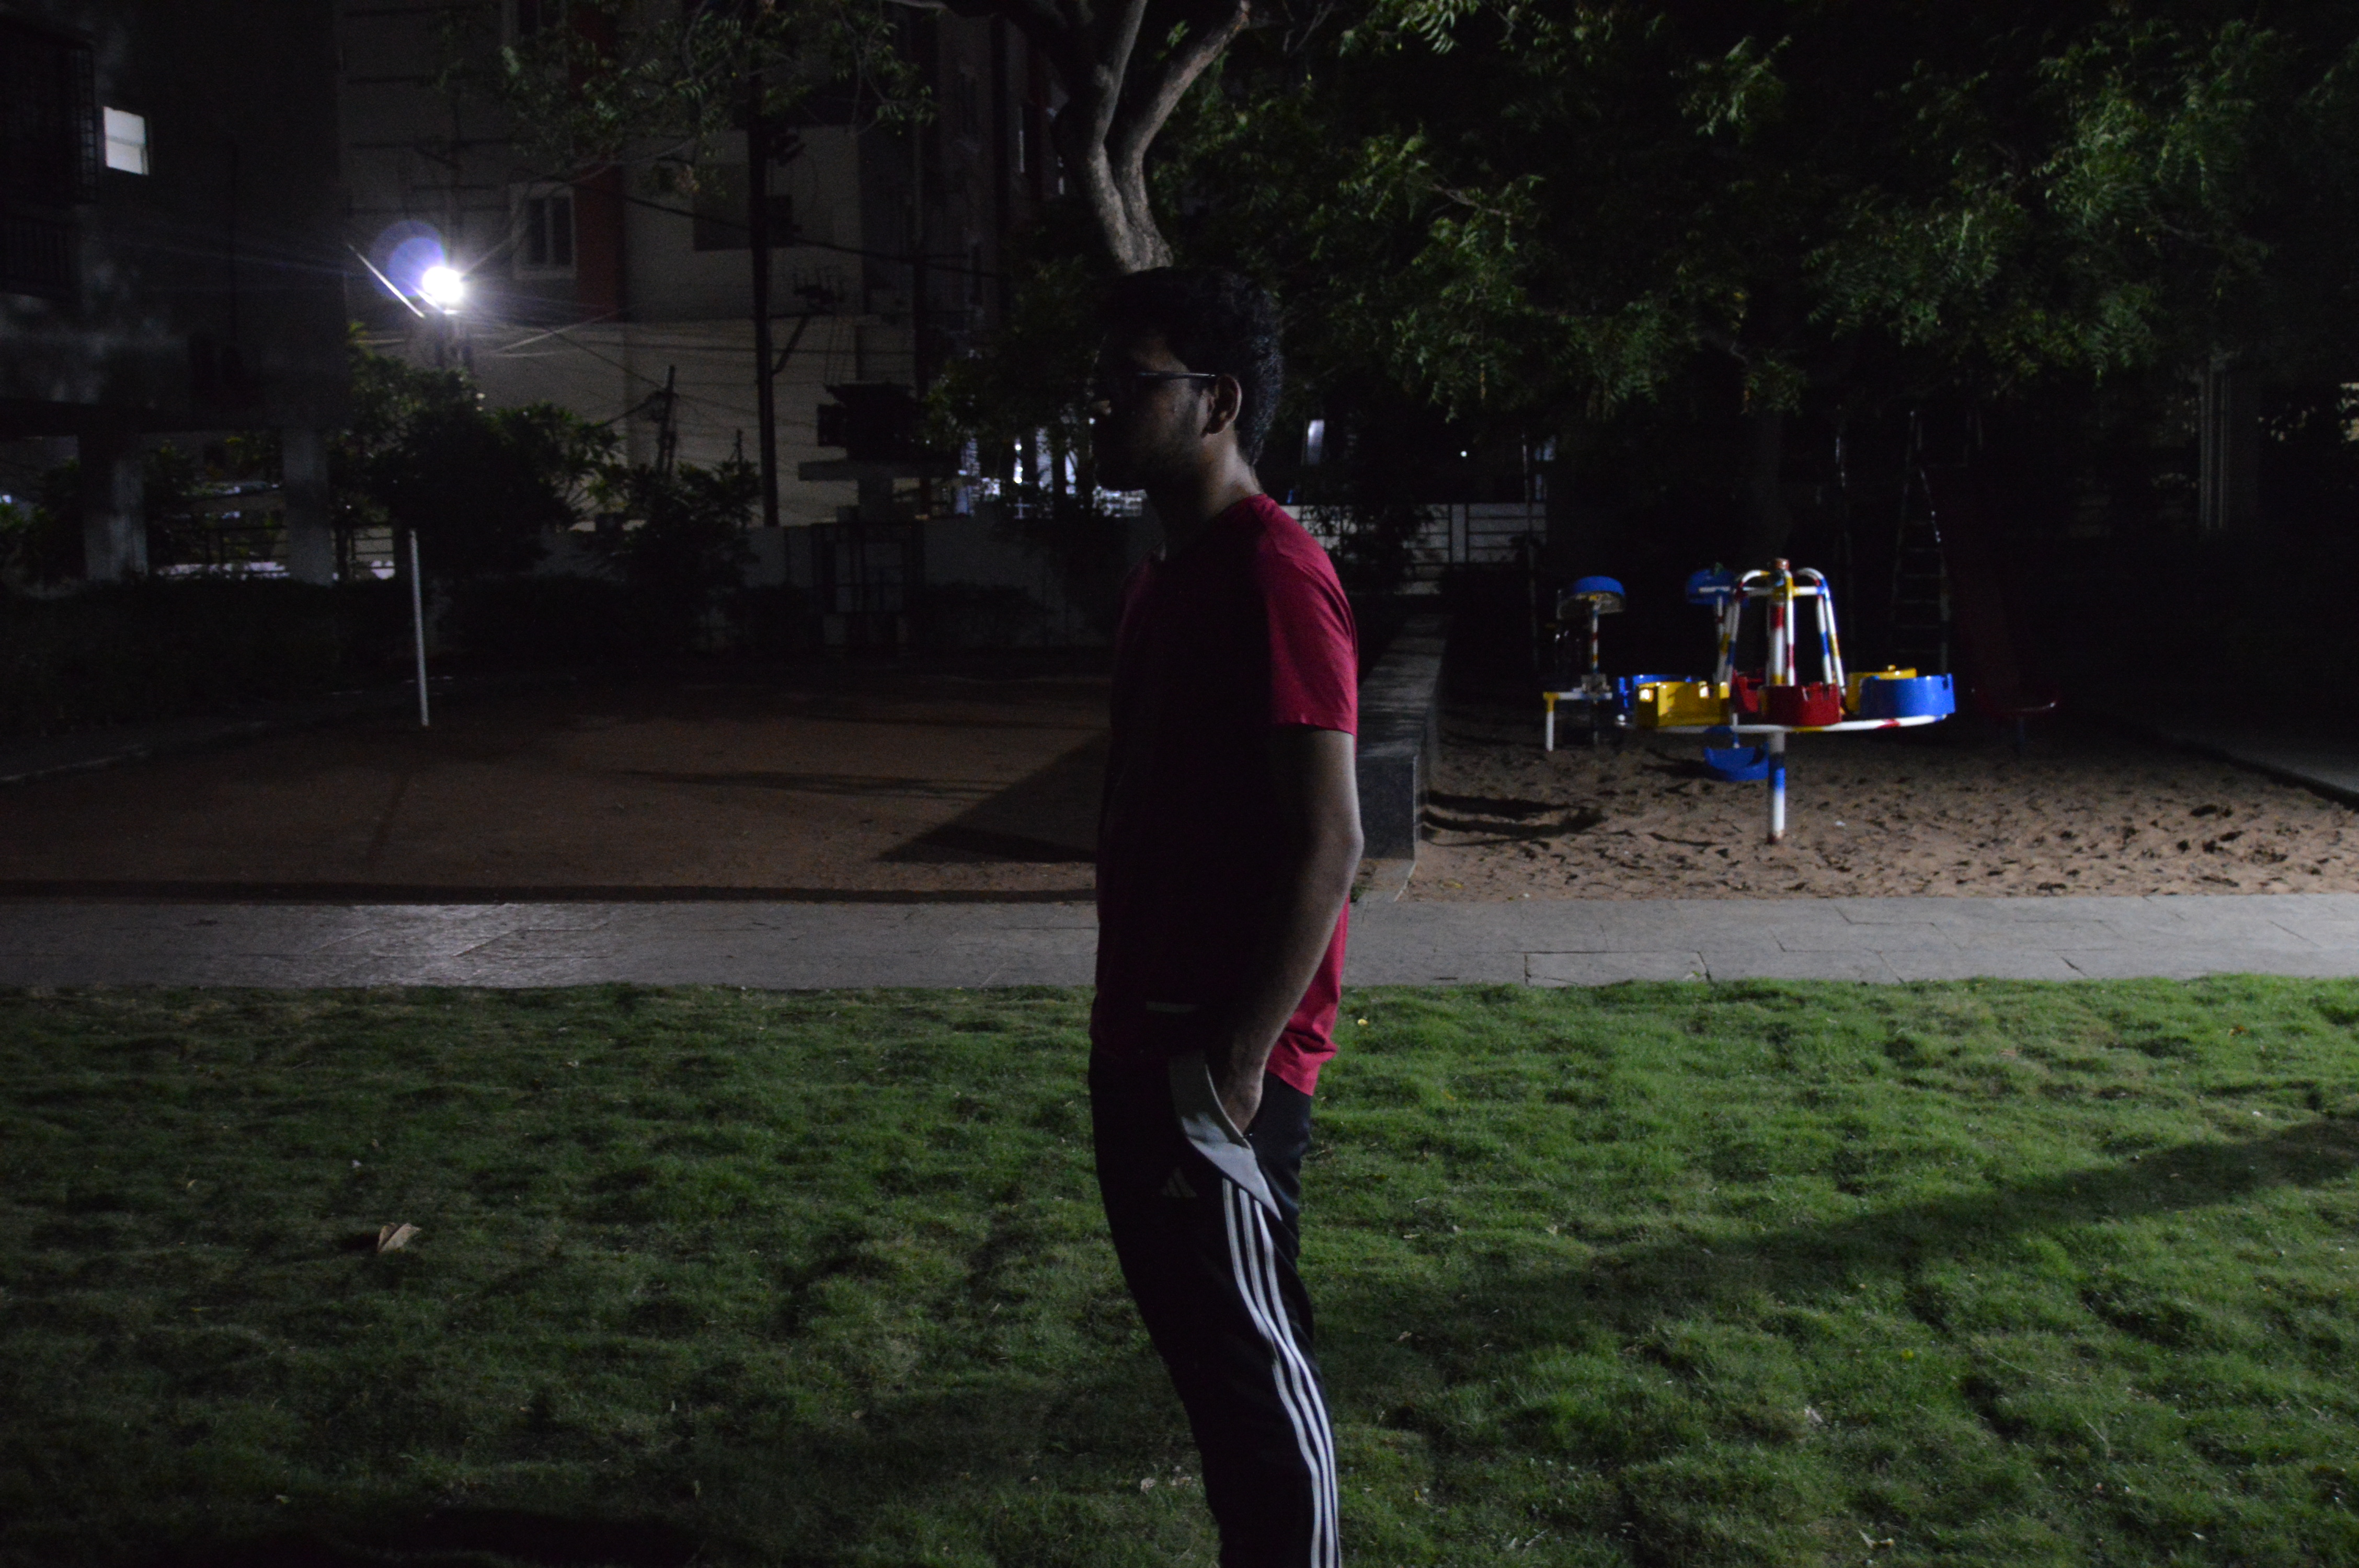Glare: (415, 257, 471, 311)
